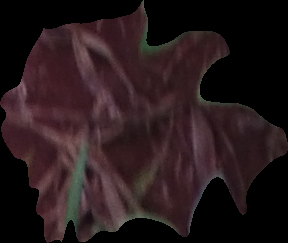soil: (2, 2, 285, 242)
